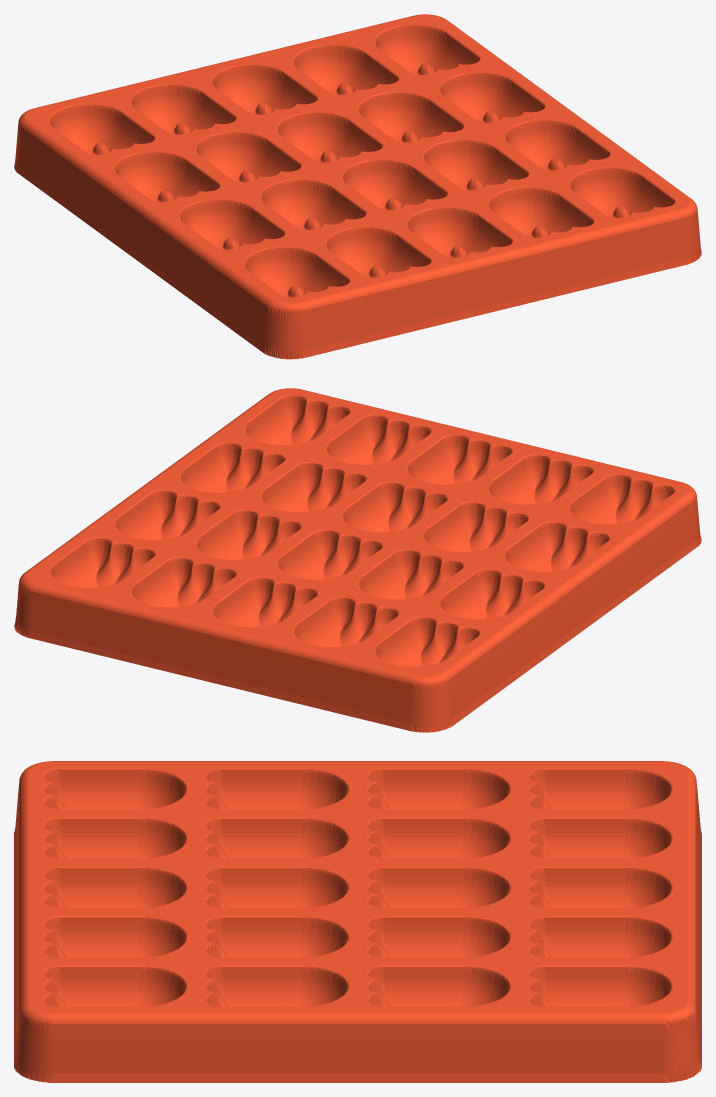
The model's file is mold.glb.
3 views of the same model, one above another, from view 1: azimuth 30°, elevation 25°; view 2: azimuth 150°, elevation 25°; view 3: azimuth 270°, elevation 25° (orthographic). The views are drawn at different scales.
Parts seen in each view (by area): view 1: geometry_0; view 2: geometry_0; view 3: geometry_0.
Part boxes in pixels (x1,y1,x2,y2): geometry_0: (14,14,701,359); geometry_0: (14,388,701,732); geometry_0: (14,761,701,1082).
Size of the model in its own units: 0.1419 by 0.0159 by 0.1563.
